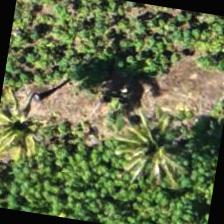Kelapa_Sawit: (102, 102, 204, 204), (0, 82, 71, 183)
